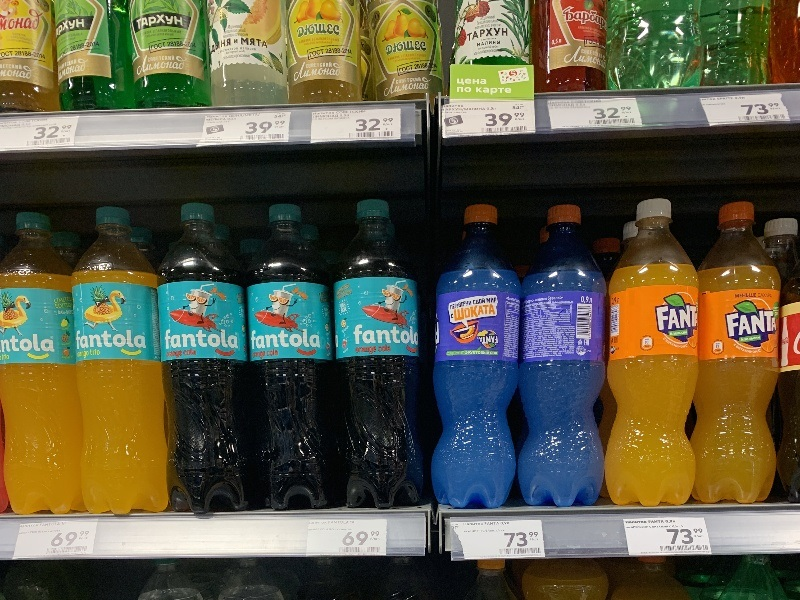lemonade: (147, 201, 271, 519), (61, 203, 183, 522), (233, 199, 349, 524), (505, 201, 625, 514), (418, 202, 536, 516), (328, 197, 442, 516), (603, 195, 712, 519), (683, 196, 790, 516), (1, 203, 98, 522)
